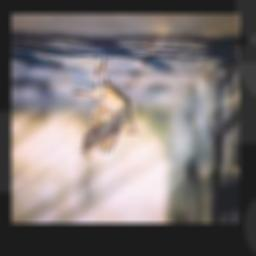Sparrow: (73, 53, 140, 162)
